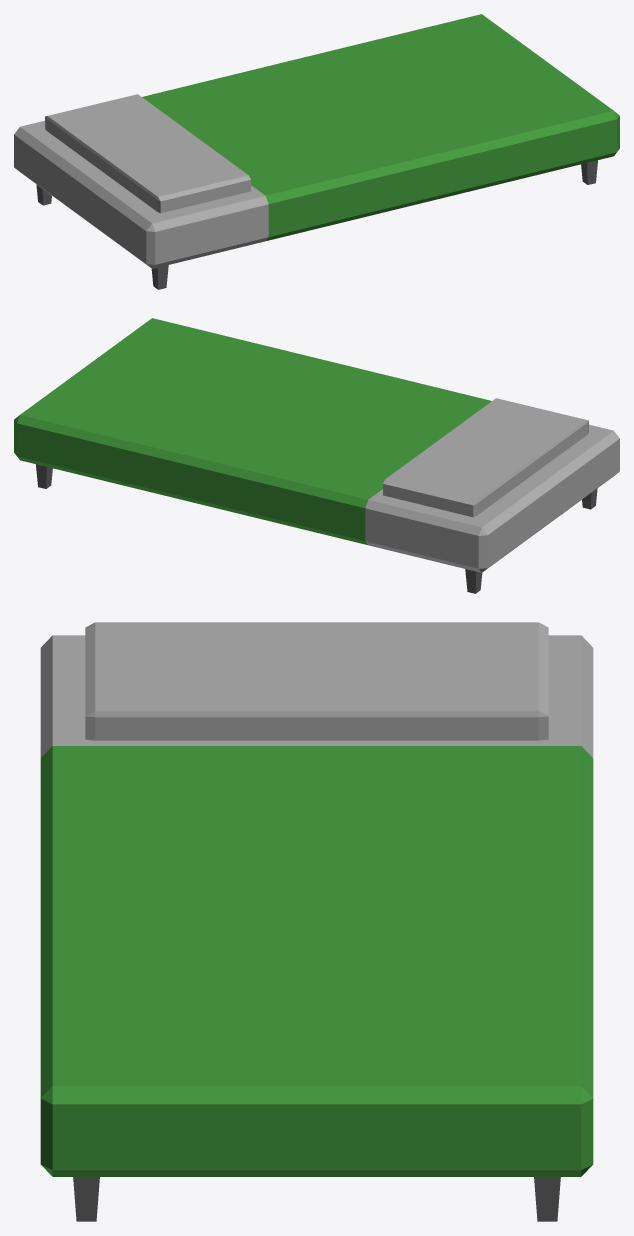
File: Bed.fbx
3 views of the same model, one above another, from view 1: azimuth 30°, elevation 25°; view 2: azimuth 150°, elevation 25°; view 3: azimuth 270°, elevation 25° (orthographic). The views are drawn at different scales.
Parts seen in each view (by area): view 1: Cube, Cube.001, Cube.002; view 2: Cube, Cube.001, Cube.002; view 3: Cube, Cube.001, Cube.002.
Part boxes in pixels (bbox=[...]): Cube: bbox=[14, 14, 619, 268]; Cube.001: bbox=[45, 94, 250, 213]; Cube.002: bbox=[36, 160, 597, 289]; Cube: bbox=[14, 318, 619, 572]; Cube.001: bbox=[383, 398, 588, 517]; Cube.002: bbox=[36, 464, 597, 593]; Cube: bbox=[40, 635, 593, 1176]; Cube.001: bbox=[85, 622, 548, 740]; Cube.002: bbox=[73, 1177, 560, 1221].
Size of the model in its own units: 783 by 140 by 396.
